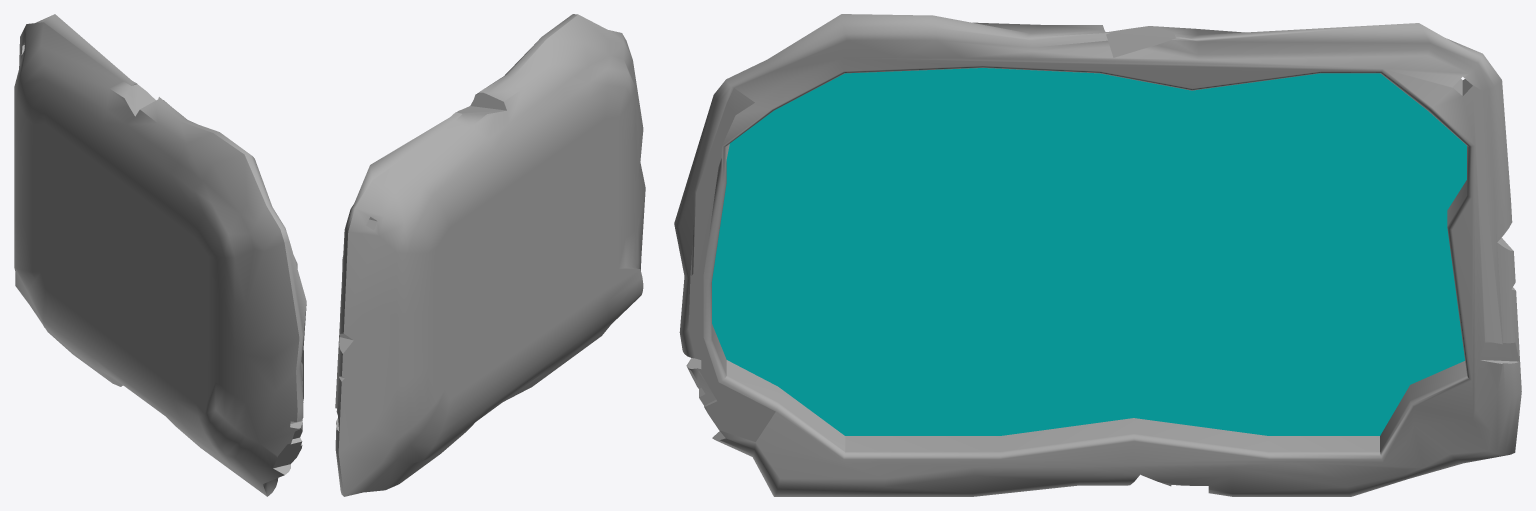
The model's file is WalLScreenBroken.fbx.
3 renders of one model, left to right at view 1: azimuth 30°, elevation 25°; view 2: azimuth 150°, elevation 25°; view 3: azimuth 270°, elevation 25°, orthographic. The views are drawn at different scales.
Parts seen in each view (by area): view 1: polySurface347; view 2: polySurface347; view 3: polySurface347.
Boxes of the visible parts, x1,y1,x2,y2 form: polySurface347: [14, 14, 306, 496]; polySurface347: [335, 14, 645, 496]; polySurface347: [674, 14, 1521, 496].
Size of the model in its own units: 0.2658 by 1.32 by 2.09.
